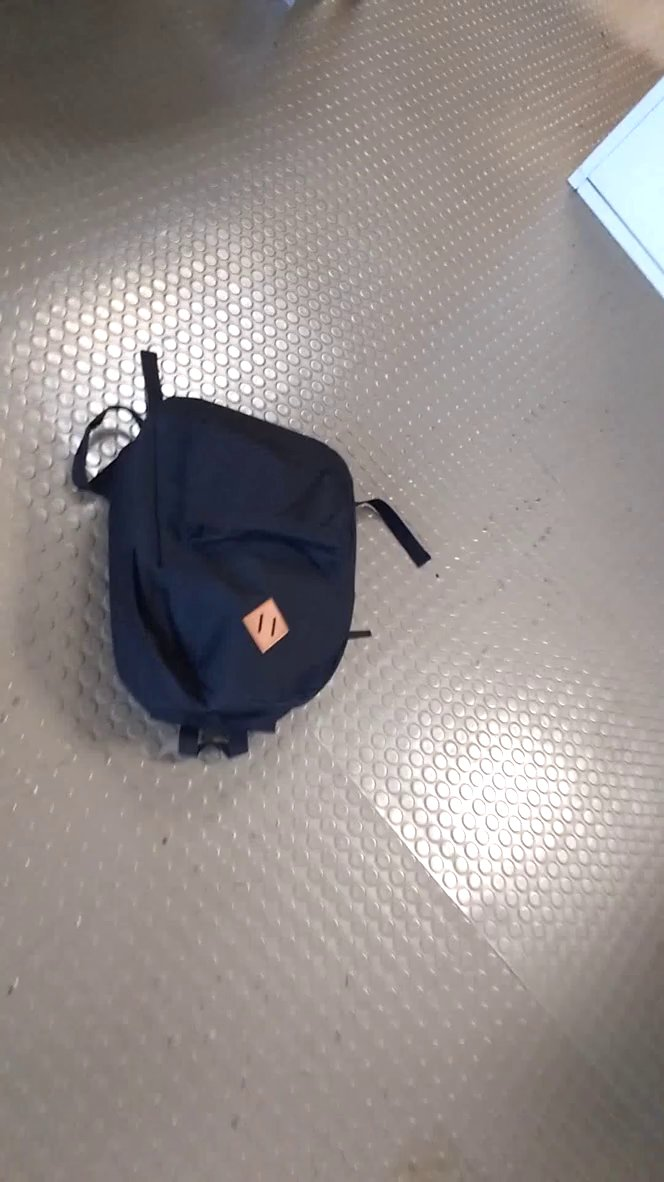bag: (64, 346, 448, 785)
